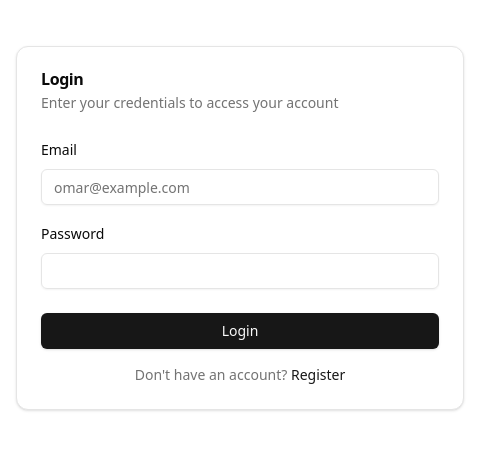
Test: LoginPage › shows error message on network failure
Type "test@test.com" into the field labelled "Email" at (240, 187), box [41,169,439,205]
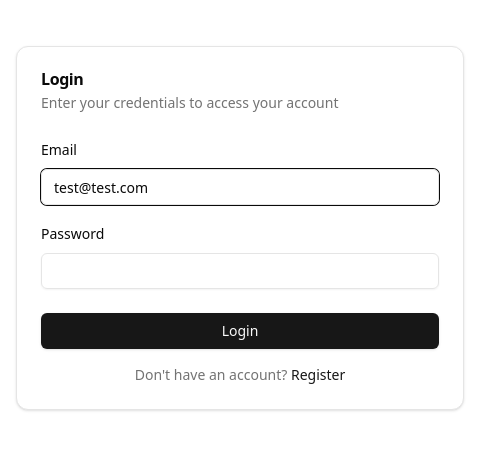
Type "password" into the password field labelled "Password" at (240, 271), box [41,253,439,289]
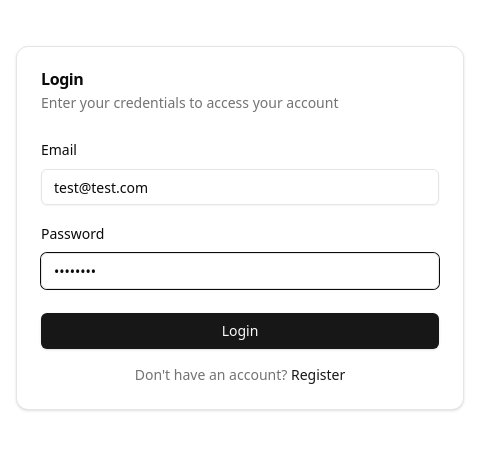
Click the button "Login" at (240, 331), box [41,313,439,349]
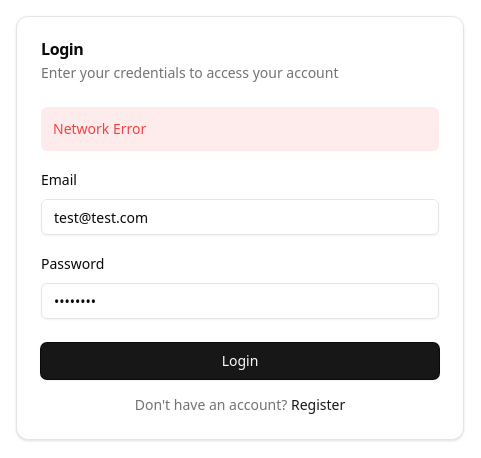
Now the text "Network Error" is shown, box [41,107,439,151]
